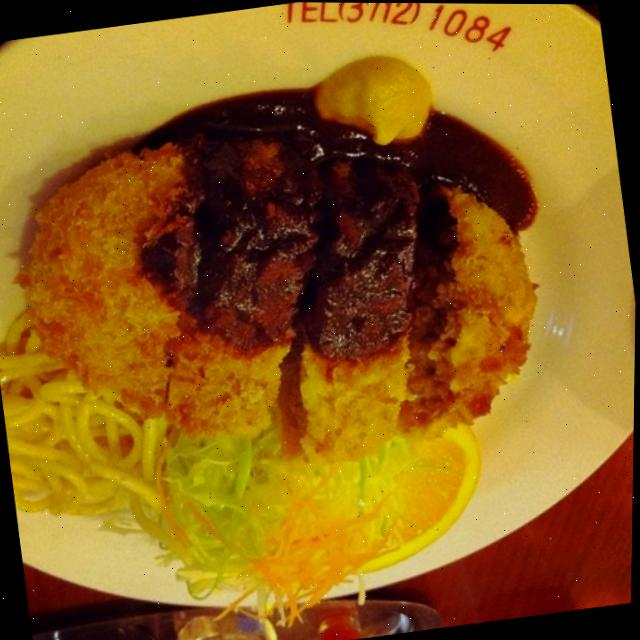炸货点心: (0, 20, 599, 547)
